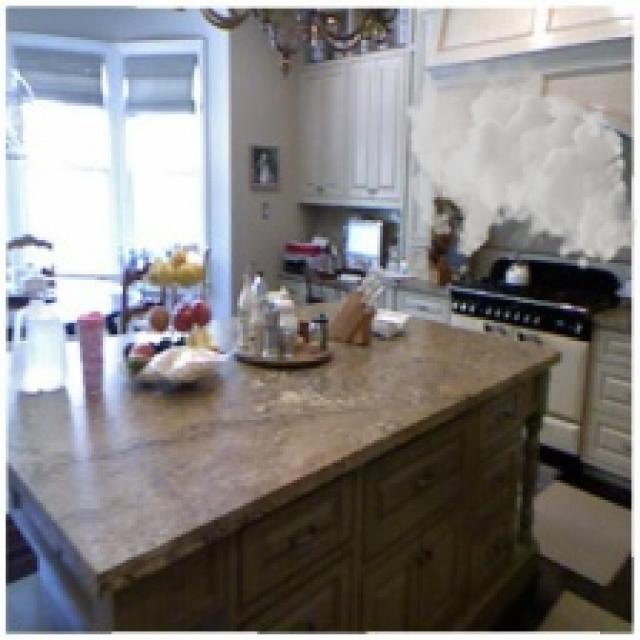smoke: (403, 51, 637, 272)
